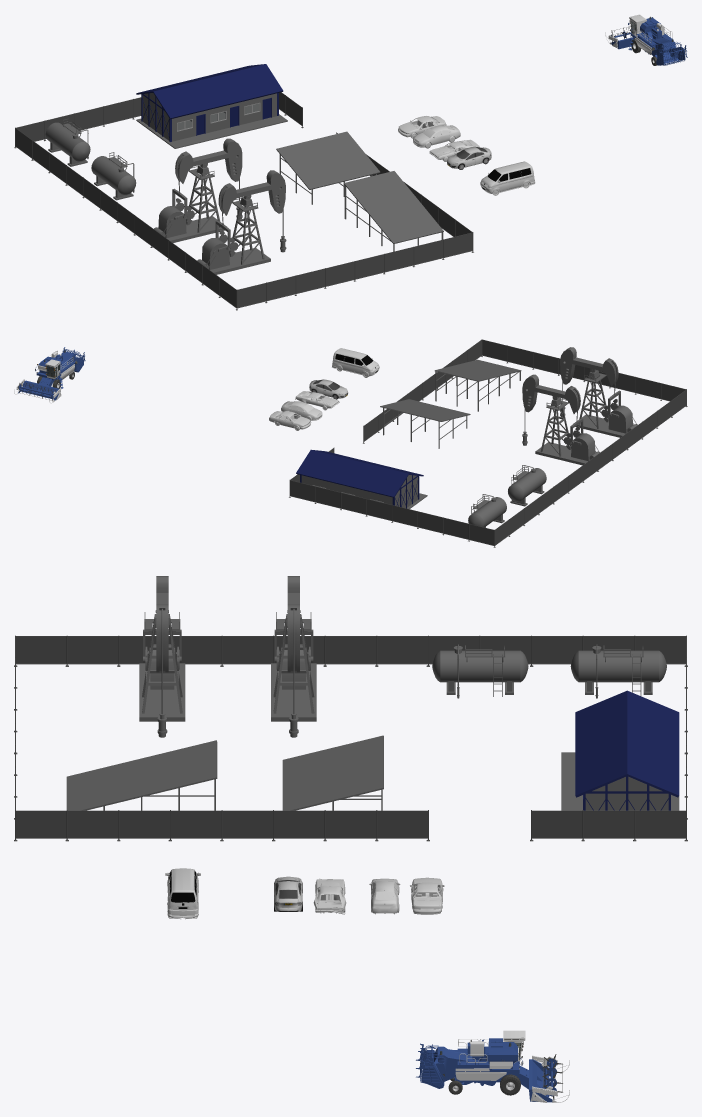
Rendered from M_CJ_tong52jing.fbx.
3 views of the same model, one above another, from view 1: azimuth 30°, elevation 25°; view 2: azimuth 150°, elevation 25°; view 3: azimuth 270°, elevation 25° (orthographic). The views are drawn at different scales.
Parts seen in each view (by area): view 1: zhalan, fangding, chouyouji01, dianchiban01, chouyouji02, M_YT, dianchiban02, qiangti, M_YT_shougeji, dimian, youguan01, youguan02; view 2: zhalan, fangding, chouyouji02, chouyouji01, M_YT, M_YT_shougeji, dianchiban01, dianchiban02, qiangti, youguan01, youguan02; view 3: zhalan, fangding, M_YT_shougeji, dianchiban01, M_YT, dianchiban02, chouyouji01, chouyouji02, youguan02, youguan01, qiangti, dimian.
Part boxes in pixels (x1,y1,x2,y2): zhalan: [14, 92, 473, 310]; fangding: [136, 64, 283, 141]; chouyouji01: [197, 170, 286, 274]; dianchiban01: [344, 171, 443, 251]; chouyouji02: [154, 138, 242, 242]; M_YT: [398, 116, 535, 195]; dianchiban02: [276, 131, 380, 204]; qiangti: [142, 93, 276, 141]; M_YT_shougeji: [605, 14, 687, 65]; dimian: [136, 103, 287, 148]; youguan01: [91, 152, 136, 200]; youguan02: [45, 118, 90, 166]; zhalan: [289, 339, 687, 547]; fangding: [296, 449, 423, 508]; chouyouji02: [522, 374, 599, 465]; chouyouji01: [560, 347, 637, 437]; M_YT: [269, 348, 379, 430]; M_YT_shougeji: [14, 347, 85, 403]; dianchiban01: [434, 359, 521, 411]; dianchiban02: [380, 399, 470, 448]; qiangti: [301, 475, 417, 508]; youguan01: [508, 465, 546, 506]; youguan02: [468, 494, 506, 527]; zhalan: [14, 635, 687, 841]; fangding: [575, 690, 679, 810]; M_YT_shougeji: [416, 1030, 569, 1102]; dianchiban01: [66, 740, 217, 810]; M_YT: [165, 868, 444, 919]; dianchiban02: [282, 735, 383, 810]; chouyouji01: [139, 576, 185, 737]; chouyouji02: [271, 576, 316, 737]; youguan02: [570, 644, 666, 698]; youguan01: [432, 644, 528, 698]; qiangti: [585, 776, 668, 810]; dimian: [561, 752, 679, 810].
Bounding box in the file's own units: 6413 × 847 × 4156.
